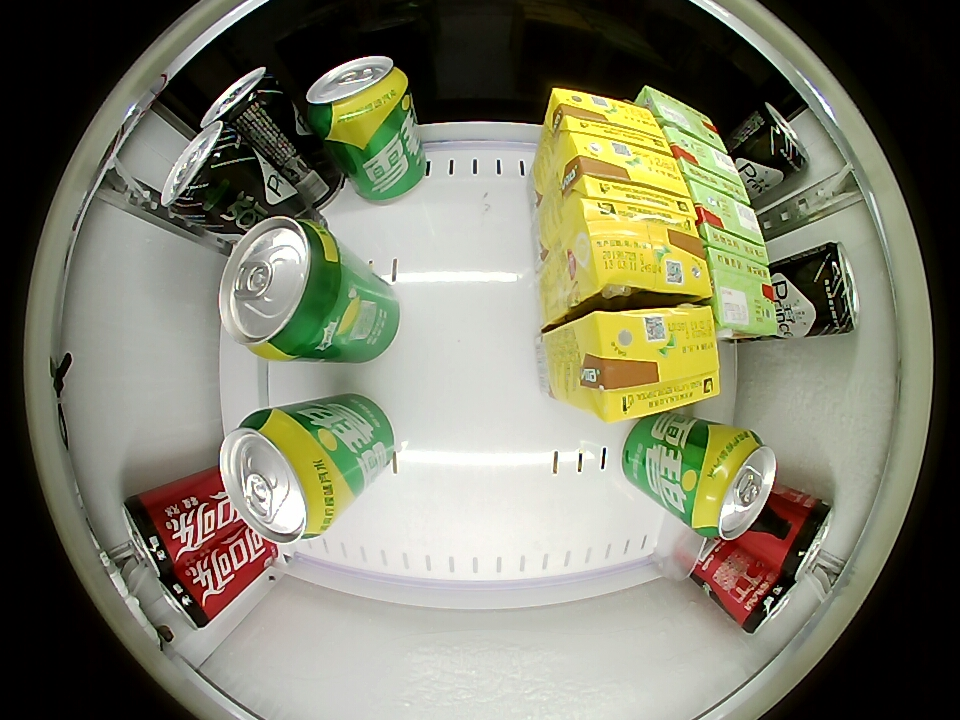lingdukele: (122, 488, 187, 577), (770, 491, 834, 581), (735, 571, 799, 635), (156, 569, 215, 630)
qingdaowangzi-1: (160, 119, 246, 223), (201, 67, 286, 138), (803, 242, 859, 337), (743, 101, 808, 180)
wanglaoji: (685, 179, 769, 268), (706, 251, 784, 341), (664, 130, 751, 201), (637, 86, 727, 152)
weitaningmeng: (572, 305, 722, 422), (564, 200, 712, 302), (557, 128, 697, 216), (546, 88, 670, 150)
xuebi2: (219, 216, 352, 360), (220, 407, 349, 545), (683, 426, 777, 541), (305, 56, 411, 139)
